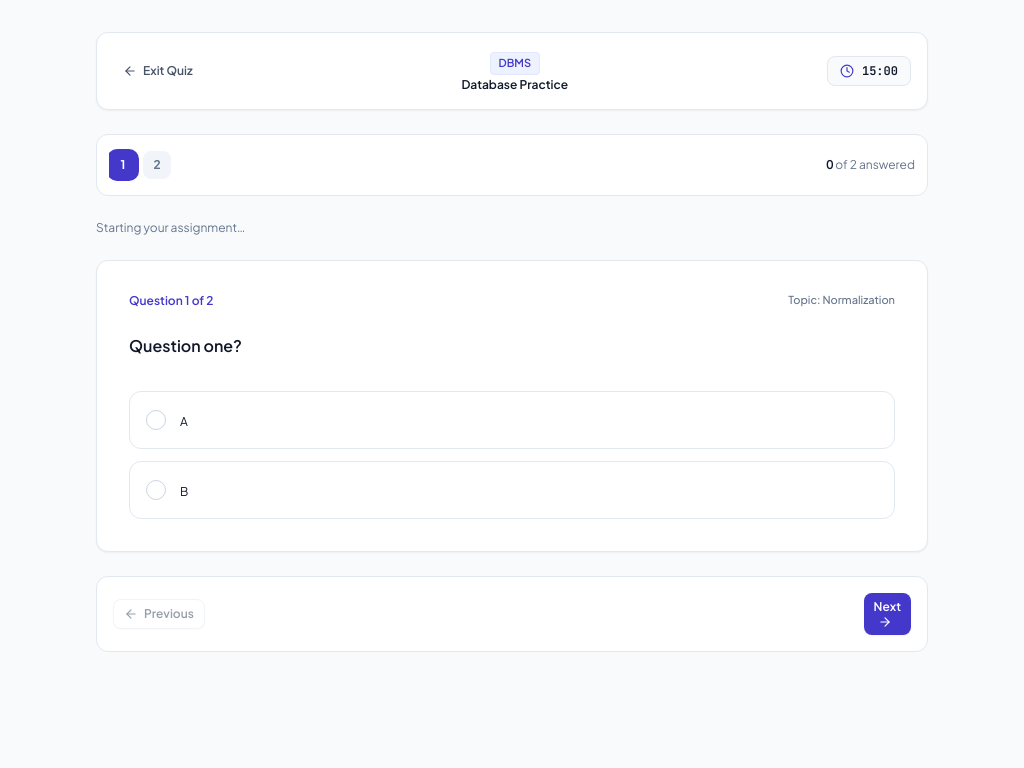
Scenario: practice assignment submission › sends unanswered items to the backend for draft recording without publishing results
Click the button "Next". click: click(887, 614)
box: [864, 592, 911, 634]
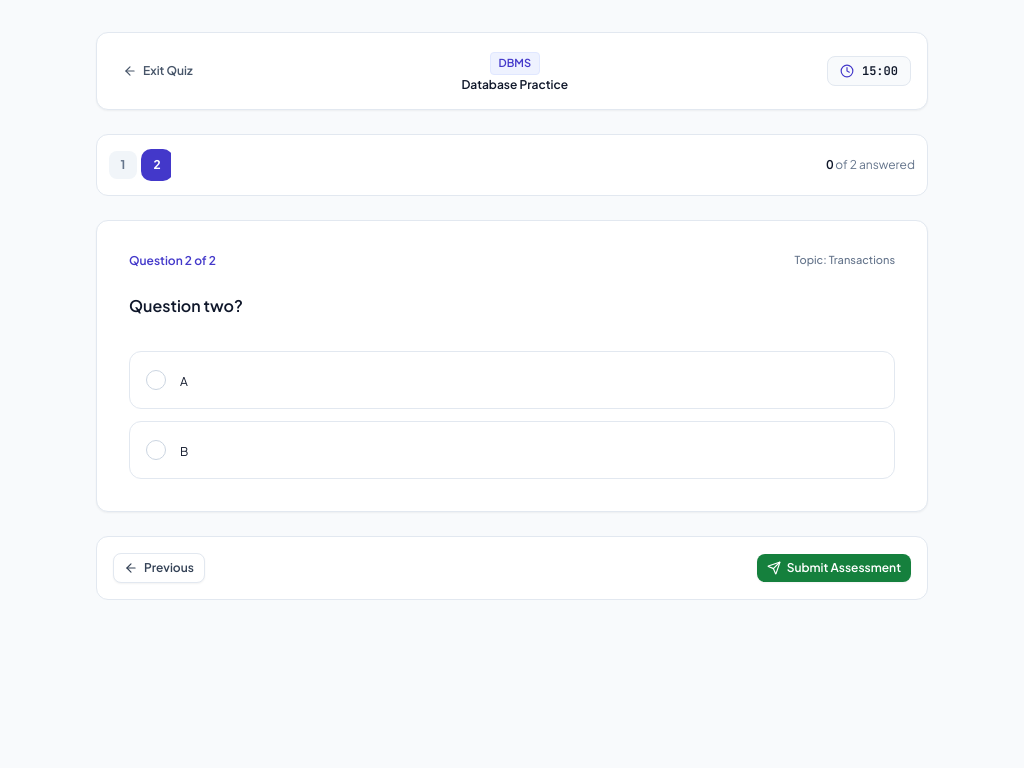
Click the button "Submit Assessment". click: click(834, 568)
box: [757, 554, 911, 582]
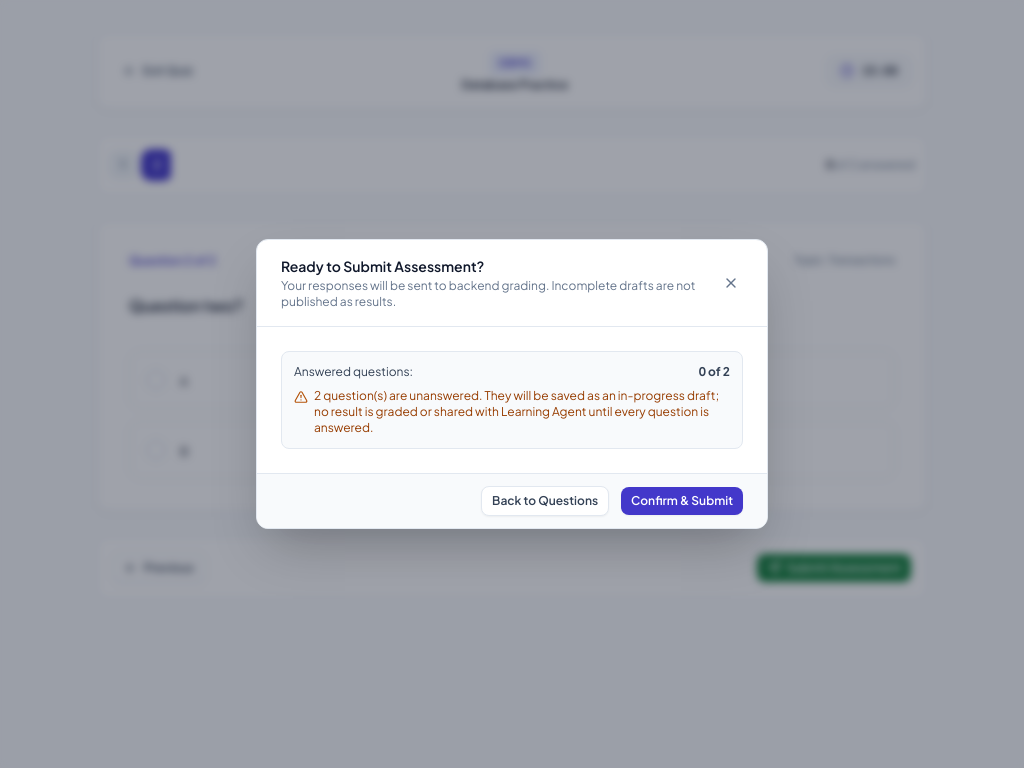
Now the text "2 question(s) are unanswered" is shown, box [314, 388, 730, 436]
Now the text "in-progress draft" is shown, box [314, 388, 719, 435]
Click the button "Confirm & Submit". click: click(682, 501)
box: [621, 487, 743, 515]
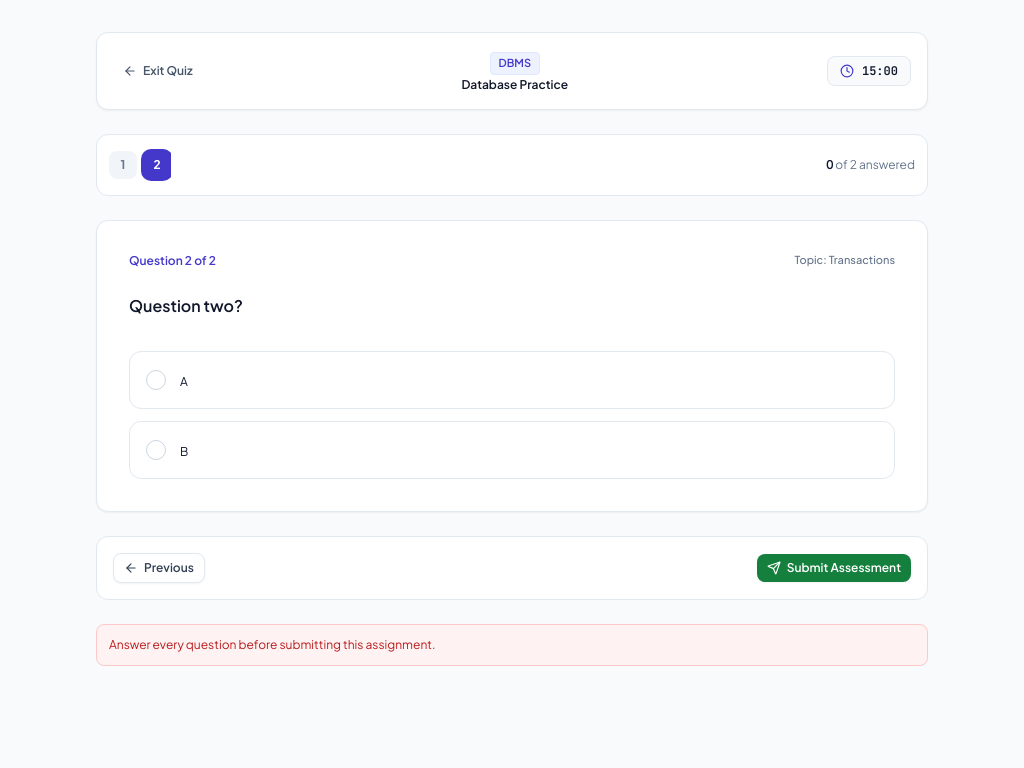
Now the message "Answer every question before submitting this assignment." is shown, box [96, 624, 928, 666]
